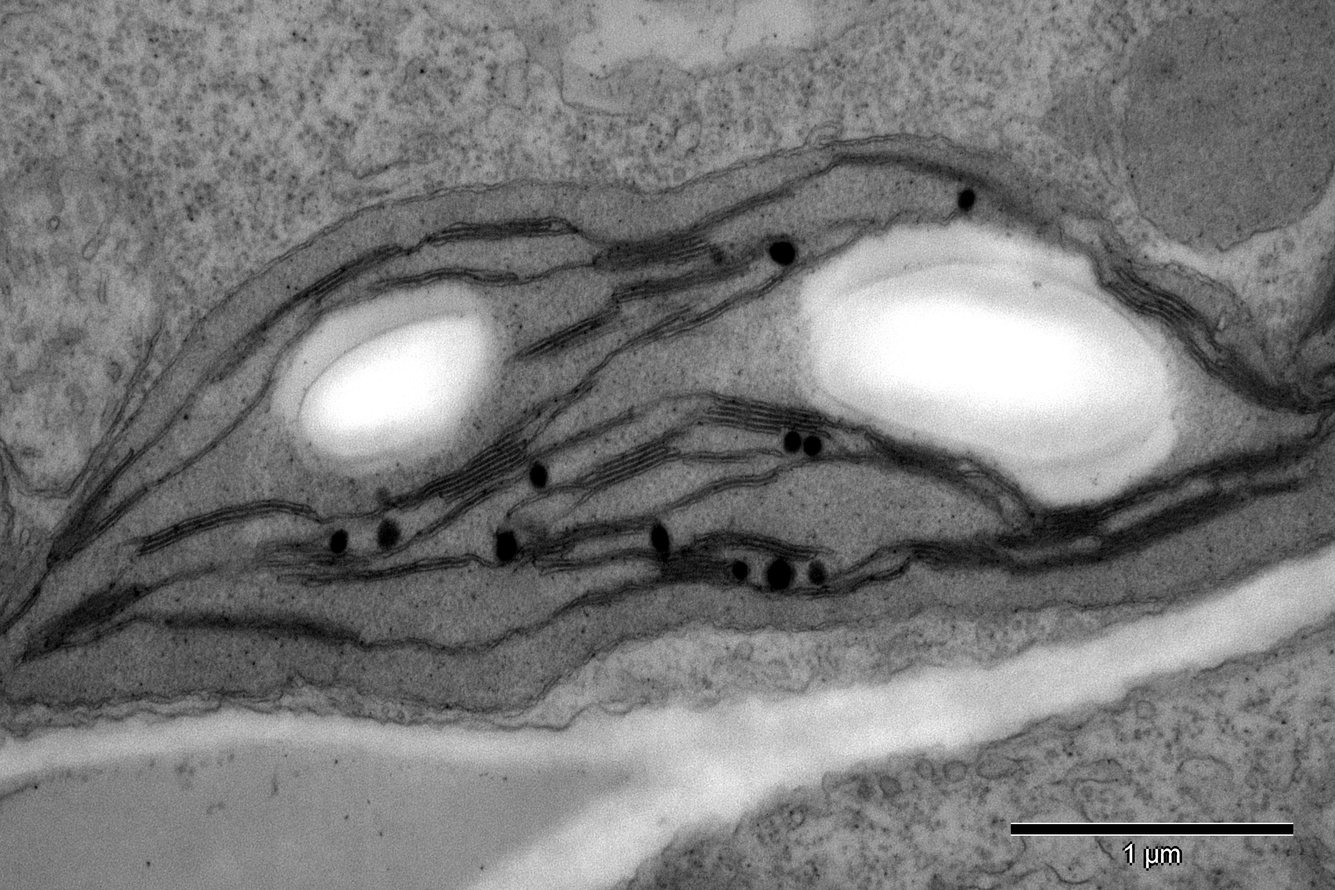granum: (391, 420, 530, 516), (1098, 481, 1256, 563), (17, 580, 154, 669), (649, 526, 816, 590), (1031, 478, 1169, 552), (1104, 255, 1206, 346), (520, 509, 645, 578), (140, 498, 278, 556), (1203, 341, 1306, 418), (591, 220, 727, 275), (614, 251, 750, 305), (44, 477, 115, 574), (1193, 432, 1317, 487), (302, 241, 408, 305), (247, 537, 368, 590), (576, 434, 671, 494), (866, 432, 962, 490), (903, 526, 1016, 575), (707, 390, 819, 438), (524, 313, 604, 363), (440, 216, 553, 246), (1306, 273, 1334, 336)
